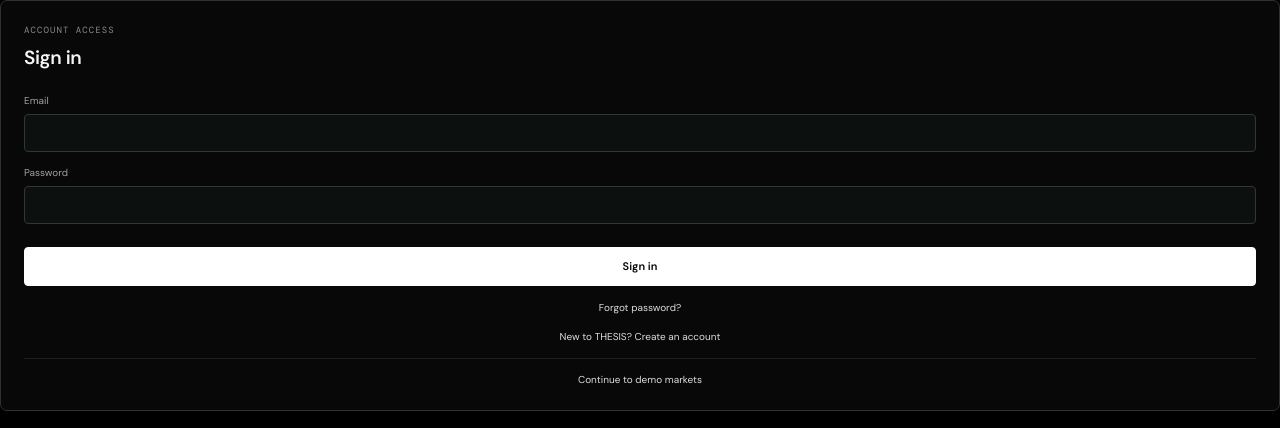
it: AuthForm › shows a confirmation-required message without claiming the user is signed in
Click the button "New to THESIS? Create an account".
click(640, 336)  # box [24,328,1256,344]
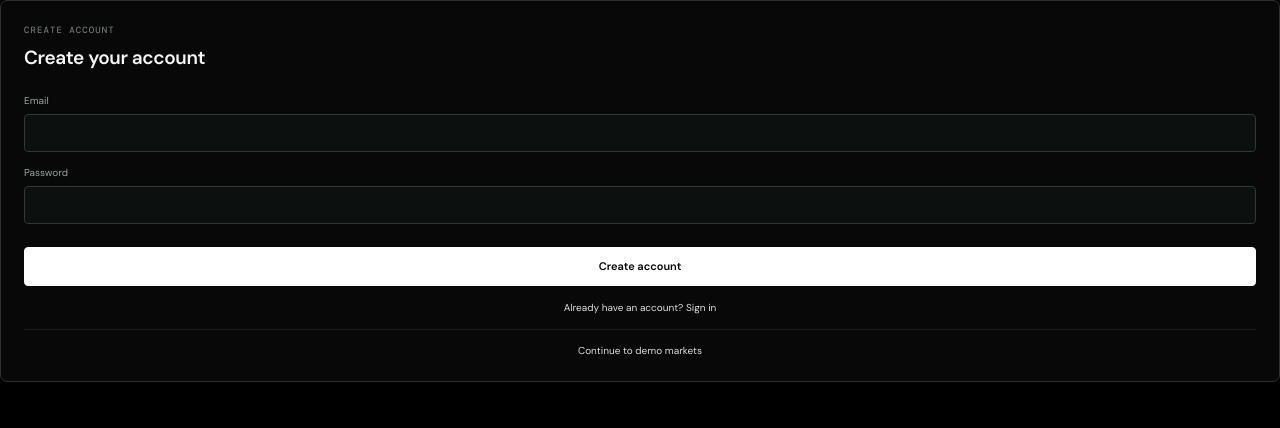
Type "trader@example.com" into the field labelled "Email".
click(640, 132); type("trader@example.com")  # box [24,114,1256,152]
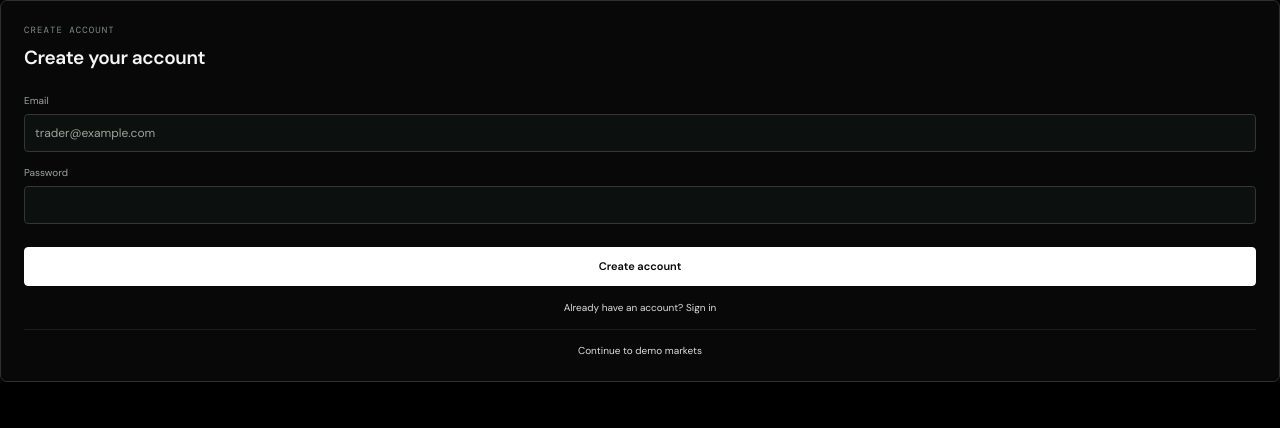
Type "correct-horse-42" into the password field labelled "Password".
click(640, 204); type("correct-horse-42")  # box [24,186,1256,224]
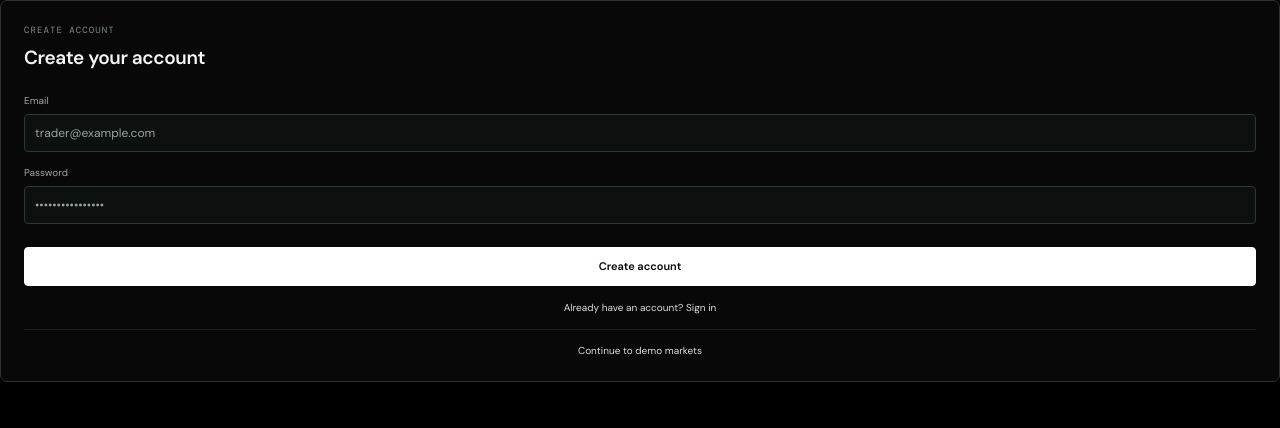
Submit the form labelled "Email", box [24,92,1256,286]
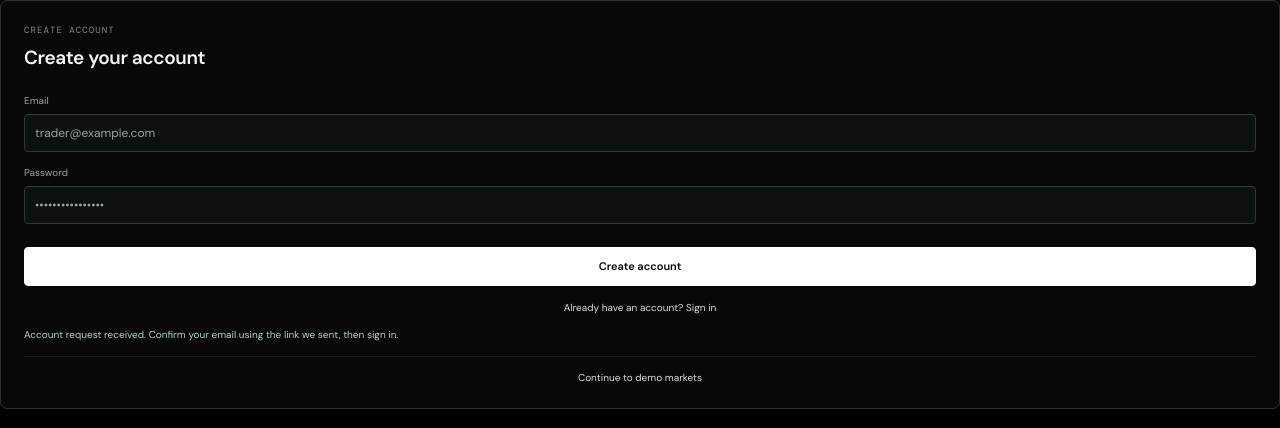
Expected: the text "Confirm your email" is shown, [24,328,398,340]
